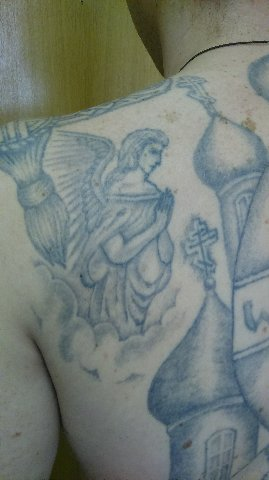tatu1_angel: (35, 124, 180, 387)
